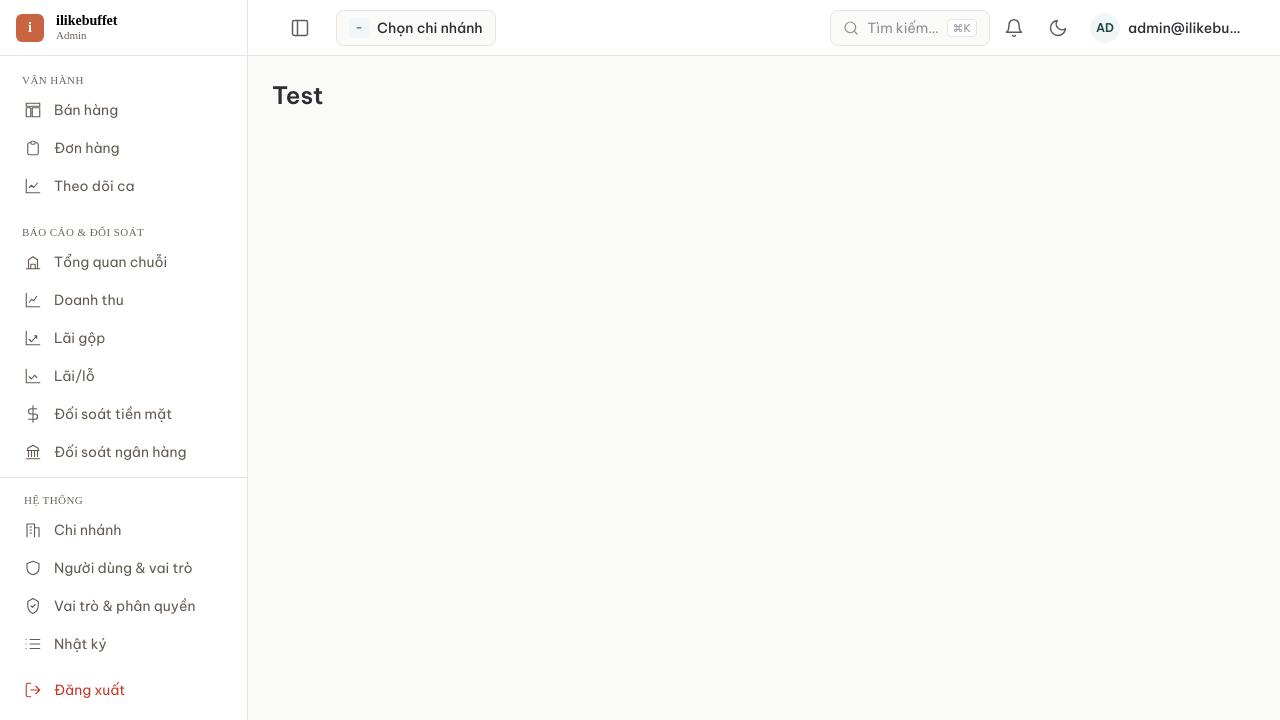
Scenario: User menu › shows Vietnamese role label
The image size is (1280, 720).
Click the button with aria-label "Menu tài khoản".
click(1169, 28)  # box left=1082, top=8, right=1256, bottom=48
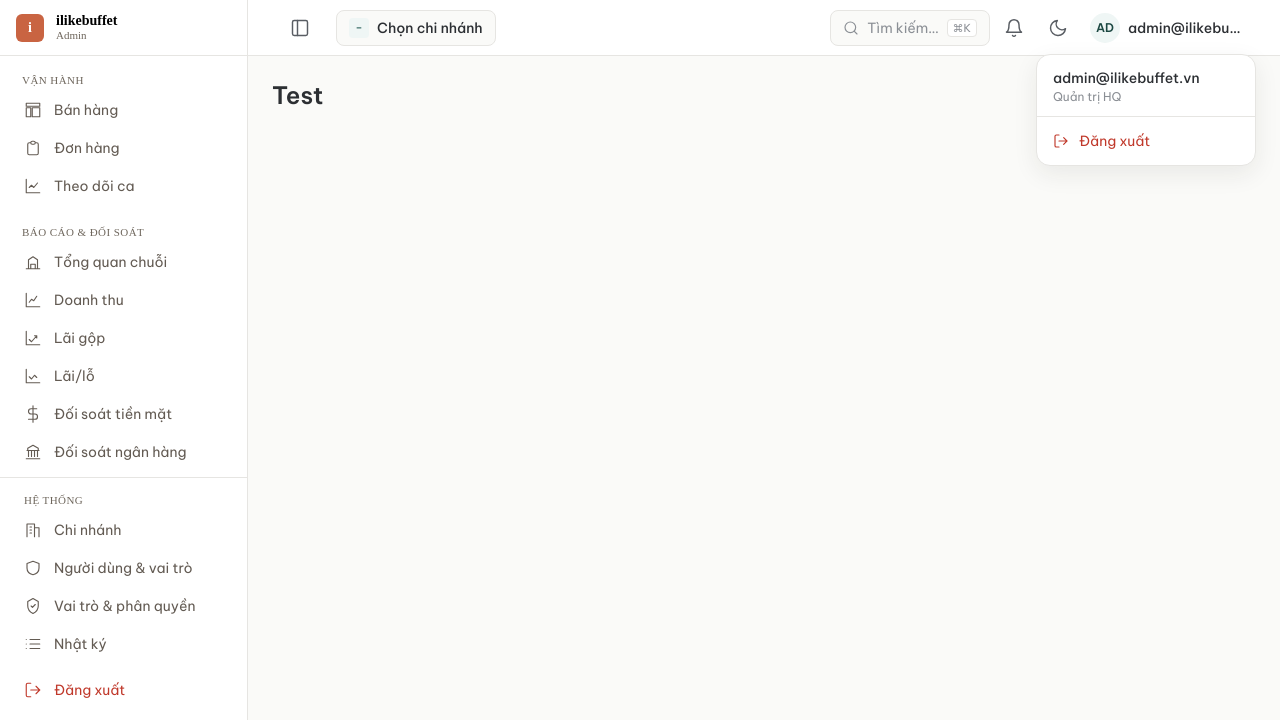
Check: the text "Quản trị HQ" is shown, box left=1053, top=88, right=1121, bottom=104
